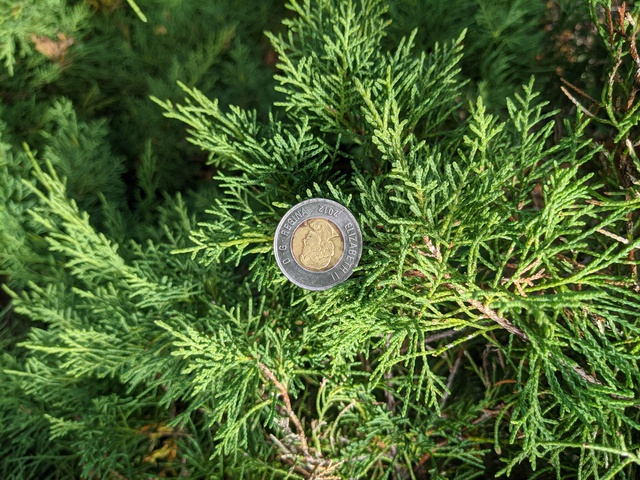twonie: (266, 193, 373, 292)
